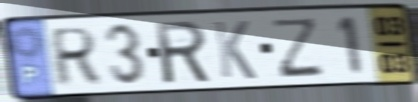1: (335, 15, 366, 76)
3: (102, 21, 148, 88)
K: (211, 19, 259, 81)
R: (152, 18, 213, 87), (50, 25, 102, 89)
Z: (273, 15, 325, 80)
